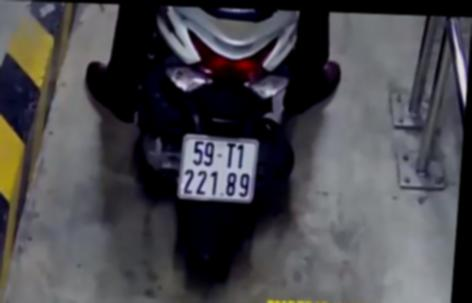License_Plate: (164, 130, 272, 216)
